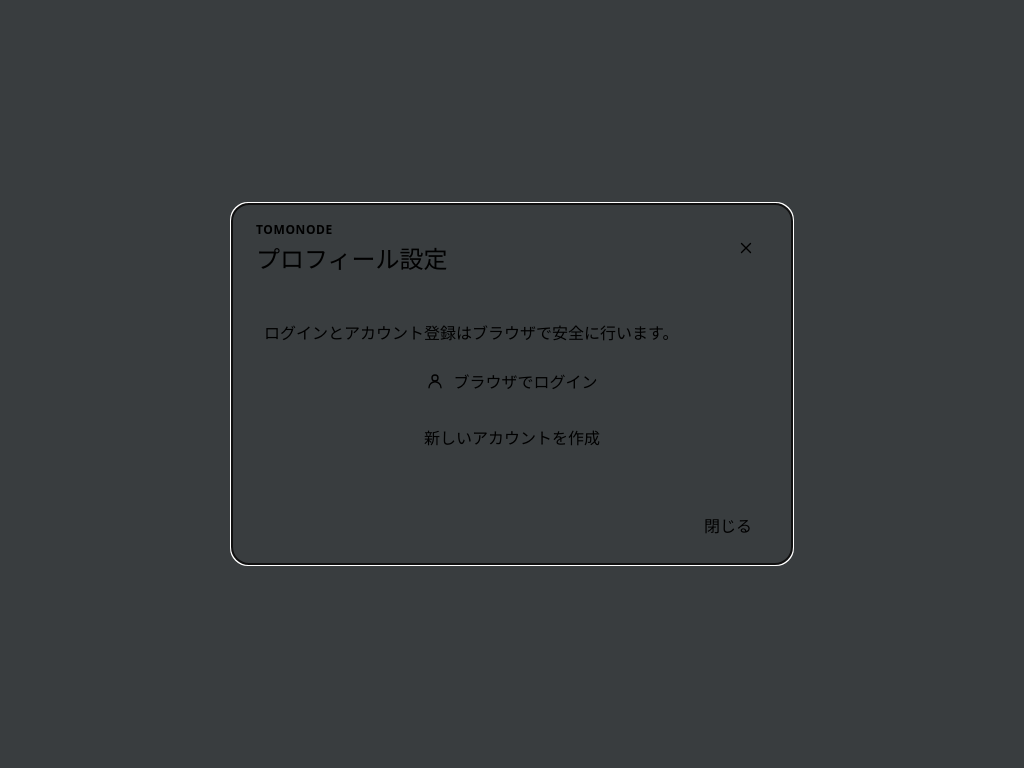
it: AccountDialog › cancels an active browser attempt and returns to the signed-out choices
Click the button "ブラウザでログイン" at [512, 381], box [264,360,760,402]
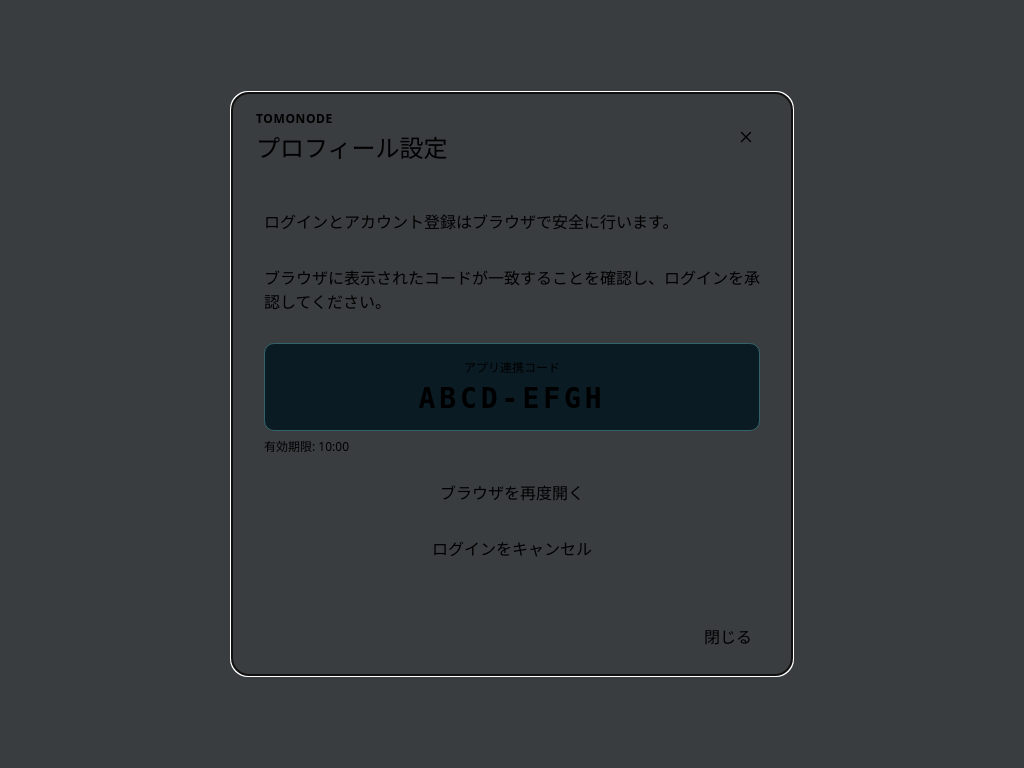
expect the text named "アプリ連携コード" is shown: met, box [418,382,606,416]
Click the button "ログインをキャンセル" at [512, 548], box [264,527,760,569]
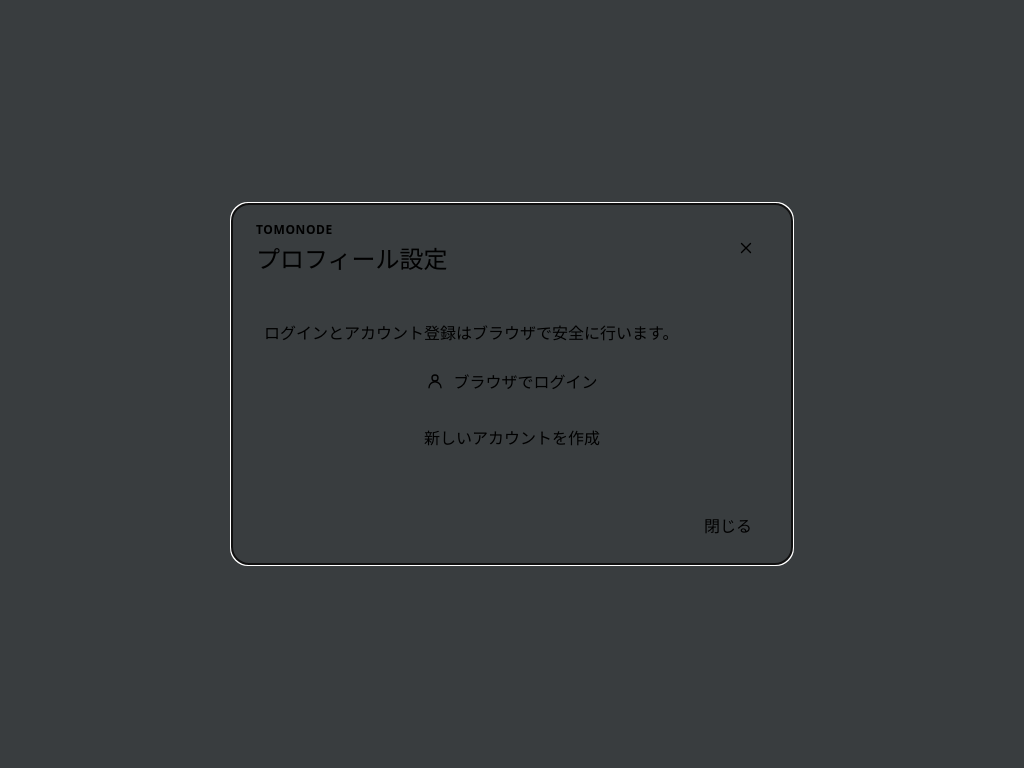
expect the button "ブラウザでログイン" is shown: met, box [264,360,760,402]
expect the text labelled "アプリ連携コード" is gone: met
